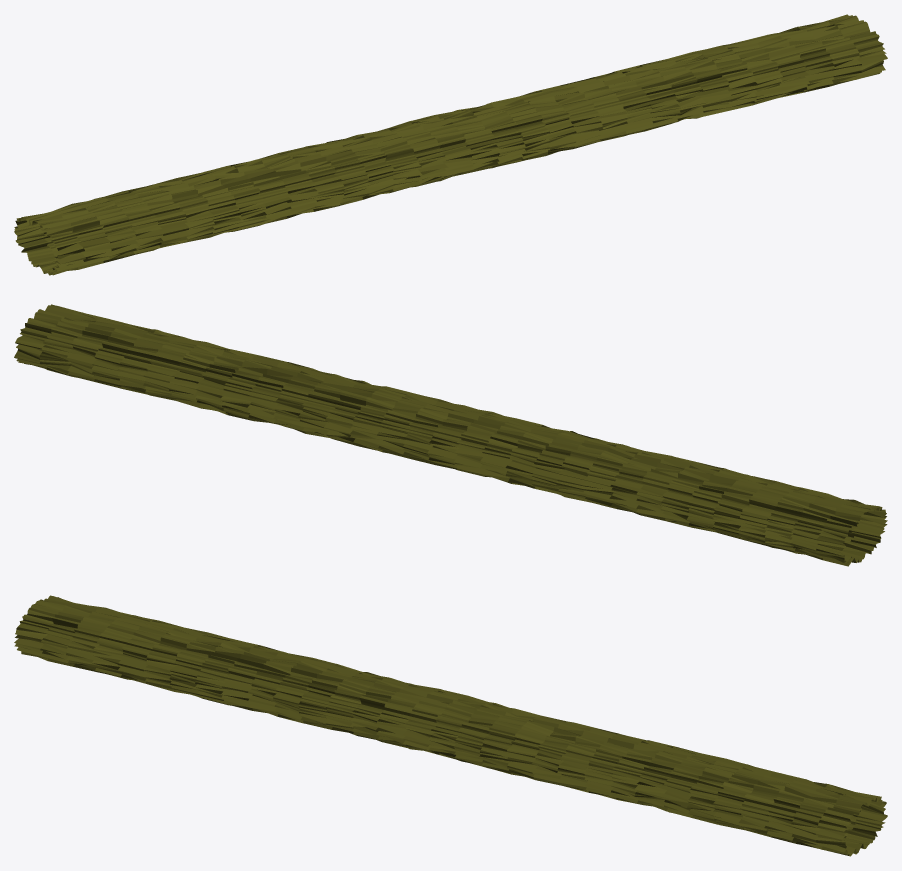
File: Tunnel_Subdivided before nuke.fbx
3 views of the same model, one above another, from view 1: azimuth 30°, elevation 25°; view 2: azimuth 150°, elevation 25°; view 3: azimuth 330°, elevation 25° (orthographic).
Parts seen in each view (by area): view 1: Cube; view 2: Cube; view 3: Cube.
Part boxes in pixels (bbox=[...]): Cube: bbox=[14, 14, 887, 275]; Cube: bbox=[14, 304, 887, 566]; Cube: bbox=[14, 595, 887, 856].
Bounding box in the file's own units: 100000 × 5574 × 9909.
